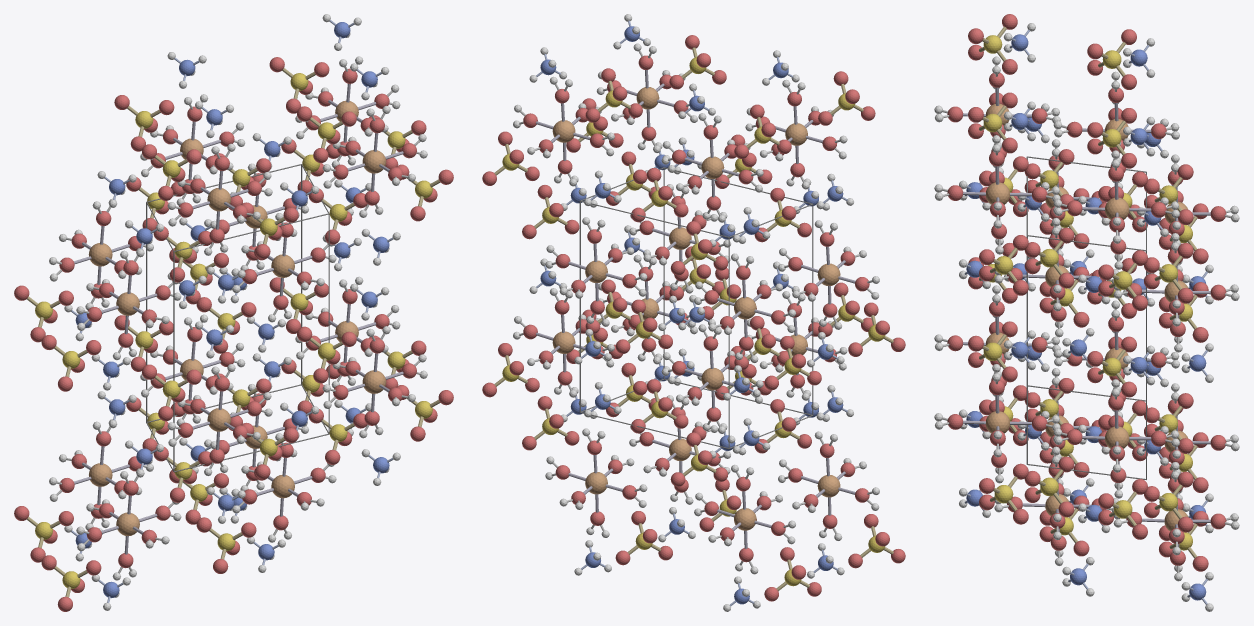
The model's file is Ferrous_ammonium_sulfate.glb.
3 renders of one model, left to right at view 1: azimuth 30°, elevation 25°; view 2: azimuth 150°, elevation 25°; view 3: azimuth 270°, elevation 25°, orthographic. The views are drawn at different scales.
Parts seen in each view (by area): view 1: O_atoms, H_atoms, bonds, S_atoms, N_atoms, Fe_atoms, unit_cell_outline; view 2: O_atoms, H_atoms, bonds, Fe_atoms, N_atoms, S_atoms, unit_cell_outline; view 3: O_atoms, H_atoms, bonds, S_atoms, N_atoms, Fe_atoms, unit_cell_outline.
Boxes of the visible parts, <box> form: O_atoms: <box>14,57,453,611</box>; H_atoms: <box>49,14,427,610</box>; bonds: <box>26,20,440,602</box>; S_atoms: <box>35,73,432,588</box>; N_atoms: <box>75,22,389,598</box>; Fe_atoms: <box>88,100,386,535</box>; unit_cell_outline: <box>146,164,329,472</box>; O_atoms: <box>482,35,905,601</box>; H_atoms: <box>513,14,879,611</box>; bonds: <box>494,20,893,606</box>; Fe_atoms: <box>552,87,840,530</box>; N_atoms: <box>540,26,843,604</box>; S_atoms: <box>502,57,885,586</box>; unit_cell_outline: <box>579,167,813,448</box>; O_atoms: <box>947,14,1226,571</box>; H_atoms: <box>934,23,1239,611</box>; bonds: <box>941,26,1231,604</box>; S_atoms: <box>983,35,1192,550</box>; N_atoms: <box>966,34,1206,600</box>; Fe_atoms: <box>985,103,1187,531</box>; unit_cell_outline: <box>1026,156,1146,479</box>.
Bounding box in the file's own units: 23.73 × 28.89 × 15.3.
